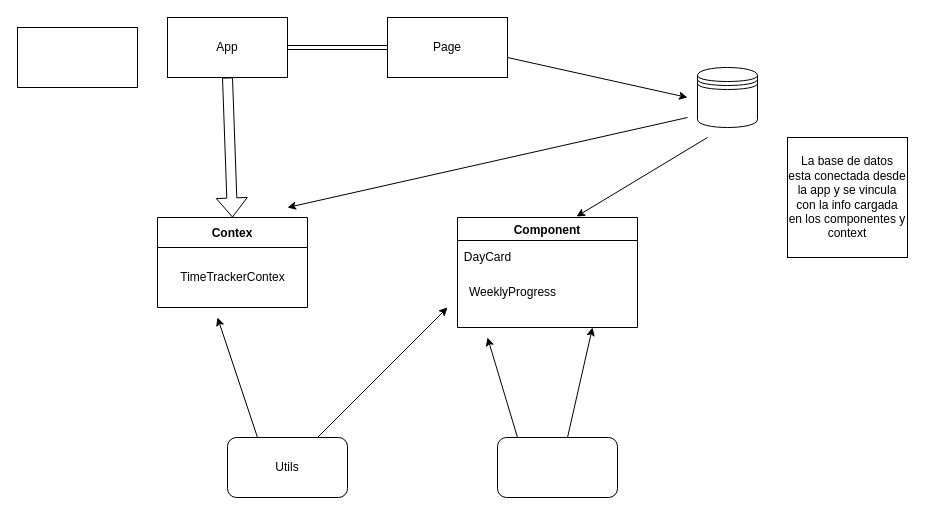
The diagram is 925 pixels wide and 515 high, and some of its shapes have lost their labels. Each missing label, with the box of its shape:
Firestore: (696, 66, 758, 128)
La app esta implementada en Amplify de AWS: (16, 26, 138, 88)
Types: (496, 436, 618, 498)
